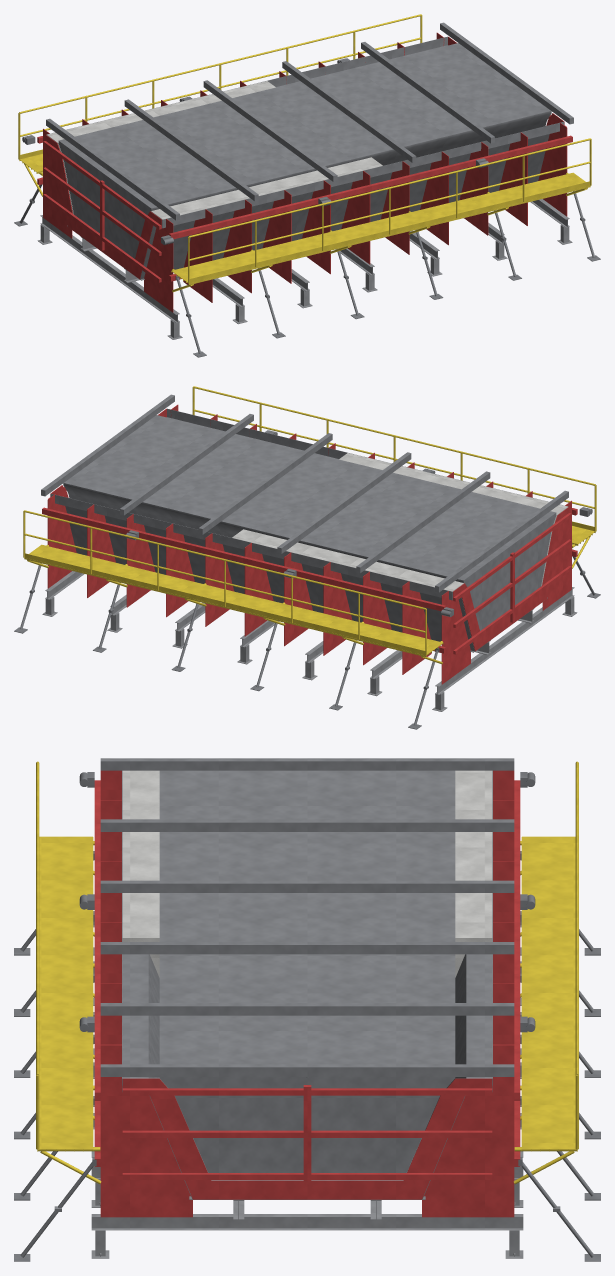
File: u-girder-mould.glb
3 views of the same model, one above another, from view 1: azimuth 30°, elevation 25°; view 2: azimuth 150°, elevation 25°; view 3: azimuth 270°, elevation 25° (orthographic). The views are drawn at different scales.
Parts seen in each view (by area): view 1: InnerCore, Ribs&Walers, Walkways, SideShutters, BaseFrame, EndBulkheads, ConcreteUnit(context), Props&Clamps, Vibrators; view 2: InnerCore, Ribs&Walers, Walkways, SideShutters, BaseFrame, EndBulkheads, ConcreteUnit(context), Props&Clamps, Vibrators; view 3: InnerCore, Walkways, Ribs&Walers, EndBulkheads, ConcreteUnit(context), BaseFrame, SideShutters, Props&Clamps, Vibrators.
Part boxes in pixels (<box>): InnerCore: <box>46,22,573,258</box>; Ribs&Walers: <box>37,32,572,312</box>; Walkways: <box>18,14,591,292</box>; SideShutters: <box>46,36,564,279</box>; BaseFrame: <box>37,199,572,339</box>; EndBulkheads: <box>43,36,566,282</box>; ConcreteUnit(context): <box>47,81,382,219</box>; Props&Clamps: <box>14,177,600,357</box>; Vibrators: <box>22,58,488,244</box>; InnerCore: <box>41,394,568,630</box>; Ribs&Walers: <box>42,404,577,684</box>; Walkways: <box>23,386,596,664</box>; SideShutters: <box>50,408,568,651</box>; BaseFrame: <box>42,571,577,711</box>; EndBulkheads: <box>48,408,571,654</box>; ConcreteUnit(context): <box>232,453,567,591</box>; Props&Clamps: <box>14,549,600,729</box>; Vibrators: <box>126,430,592,616</box>; InnerCore: <box>100,758,514,1172</box>; Walkways: <box>36,761,578,1184</box>; Ribs&Walers: <box>94,770,520,1217</box>; EndBulkheads: <box>122,1078,492,1199</box>; ConcreteUnit(context): <box>122,770,492,977</box>; BaseFrame: <box>91,911,523,1258</box>; SideShutters: <box>122,770,492,1198</box>; Props&Clamps: <box>14,851,600,1261</box>; Vibrators: <box>79,772,535,1032</box>.
Size of the model in its own units: 10.33 by 2.9 by 7.94.
Materials: 6 (6 with a texture image).
